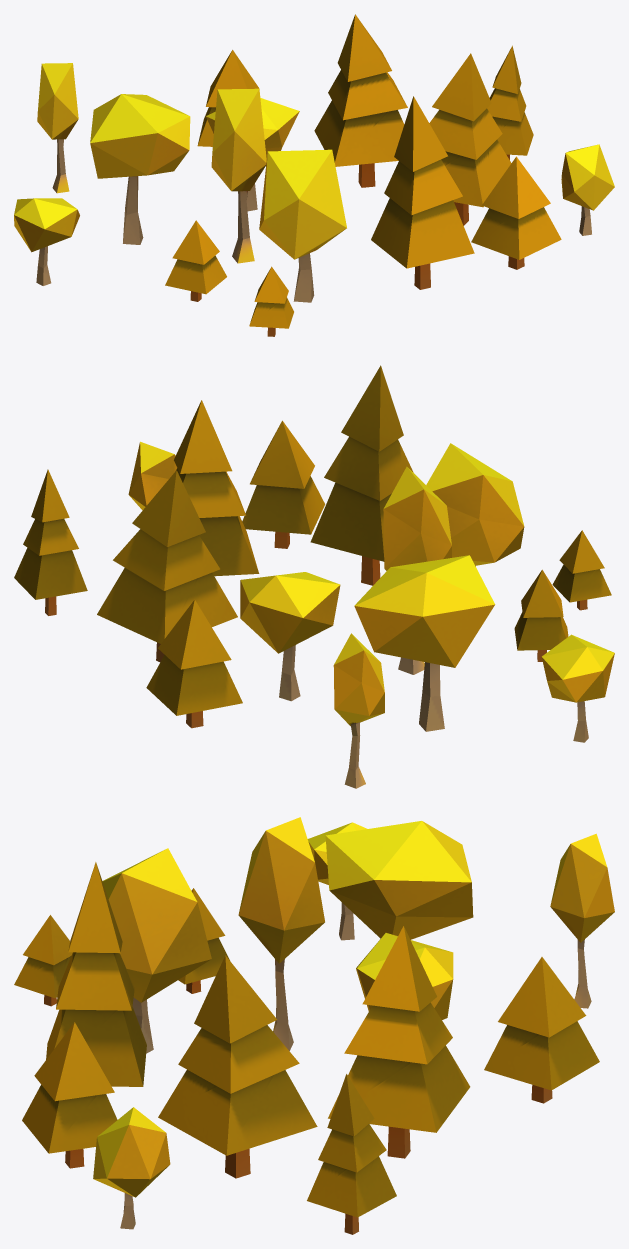
File: forest.gltf
3 renders of one model, top to bottom at view 1: azimuth 30°, elevation 25°; view 2: azimuth 150°, elevation 25°; view 3: azimuth 270°, elevation 25°, orthographic. The views are drawn at different scales.
Visible parts, largest first — view 1: forest; view 2: forest; view 3: forest.
Part boxes in pixels (x1=…): forest: x1=14, y1=14, x2=614, y2=336; forest: x1=14, y1=365, x2=614, y2=788; forest: x1=14, y1=817, x2=614, y2=1234.
Size of the model in its own units: 2.78 by 0.9865 by 2.15.
Materials: 1 (1 with a texture image).
